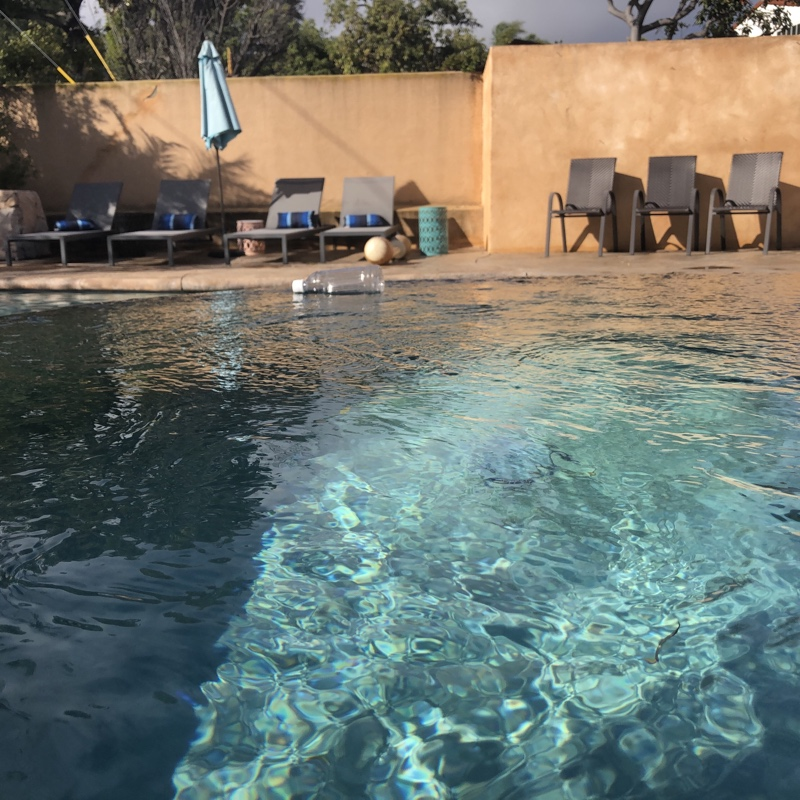Plastic Bottle: (289, 262, 386, 296)
